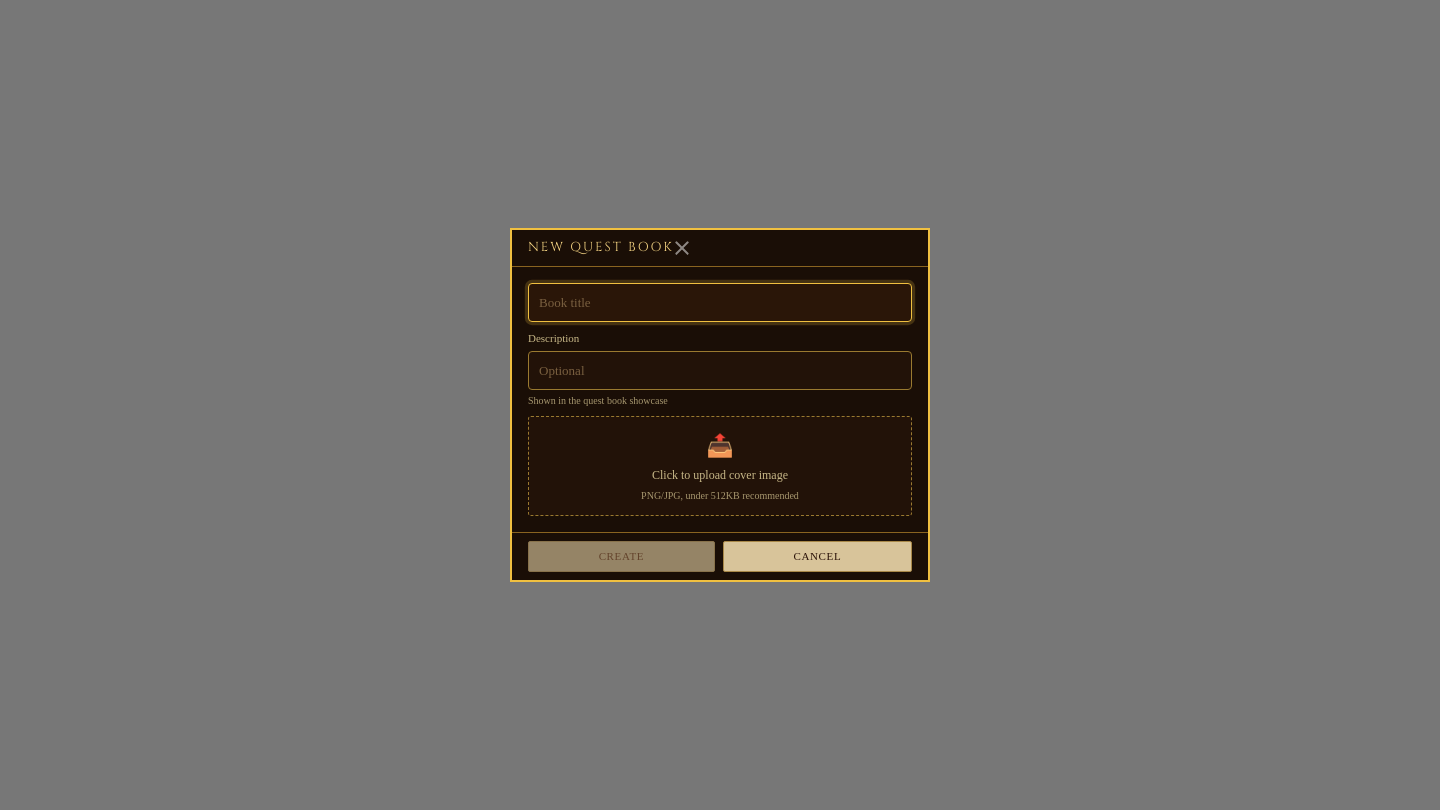
it: NewQuestBookDialog skeleton › renders header 'New Quest Book' and a title input, Create disabled until title typed
Check: the heading "New Quest Book" is shown, box [528, 238, 674, 258]
Check: the heading with class "modal-title" reads "New Quest Book", box [528, 238, 674, 256]
Type "My Book" into the field with placeholder "Book title" at coordinates (720, 303), box [528, 283, 912, 322]
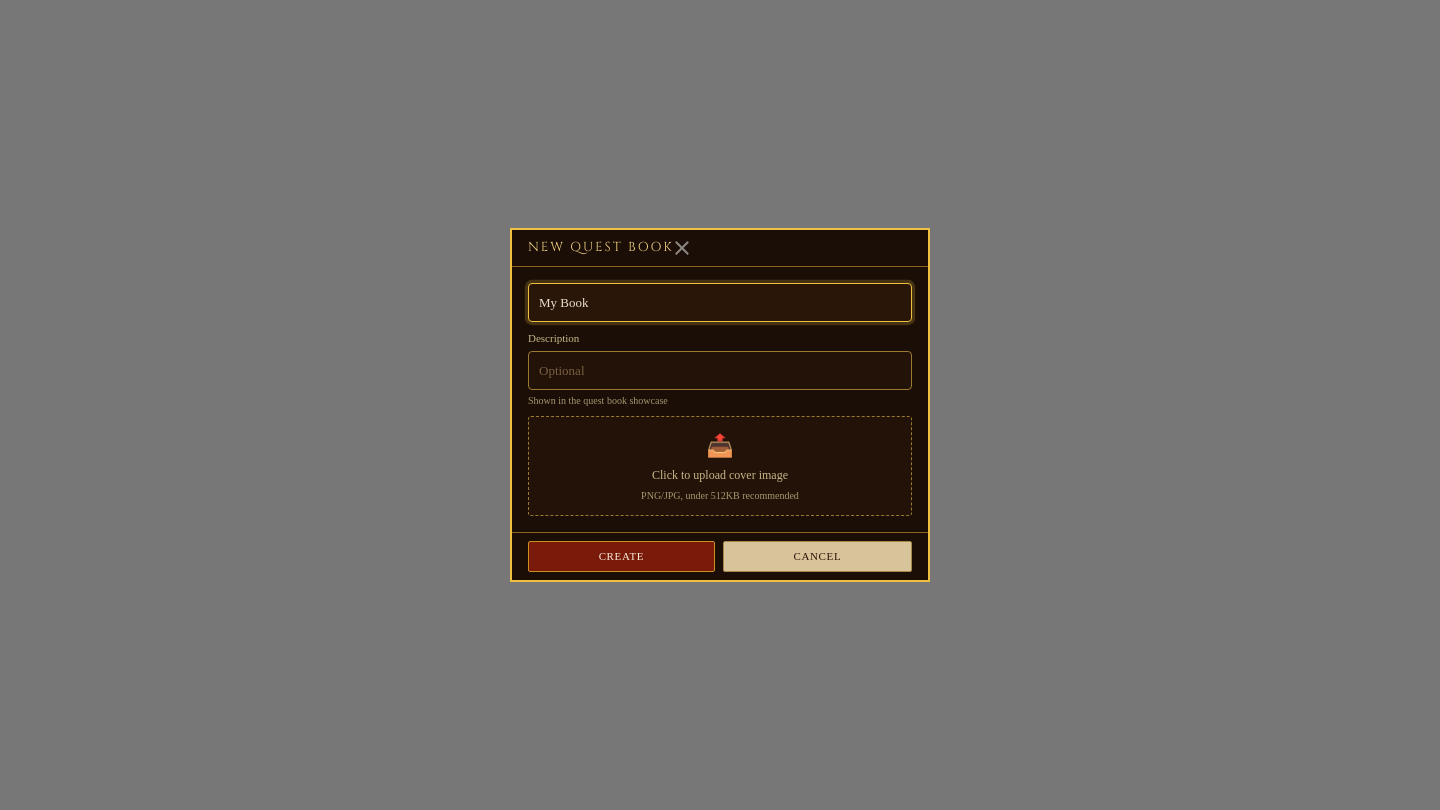
Check: the button "Create" is enabled, box [528, 541, 715, 572]
